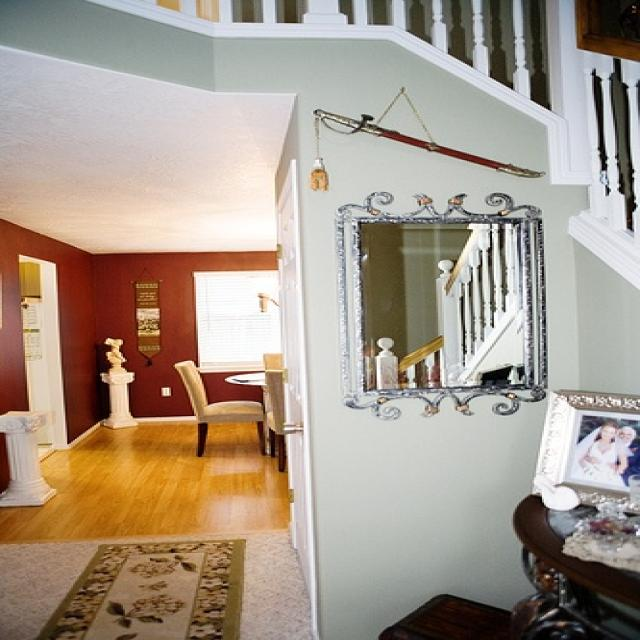chair: (171, 357, 275, 458)
